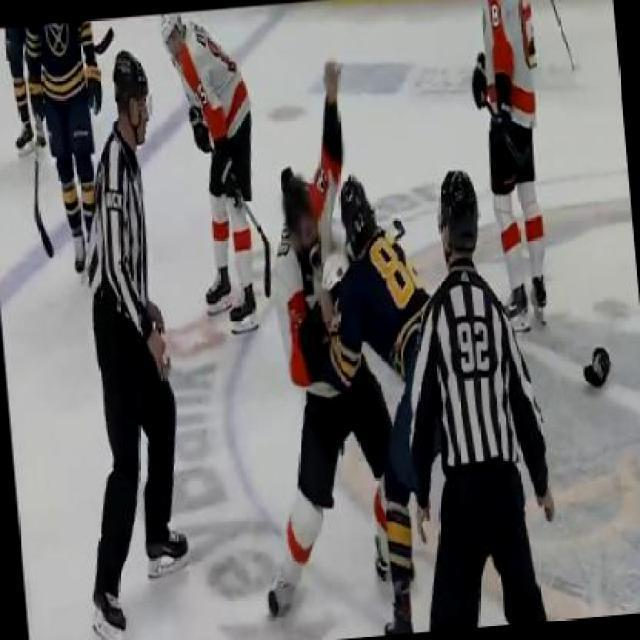fight: (250, 56, 476, 638)
non-fight: (65, 44, 198, 614), (158, 5, 280, 341)
